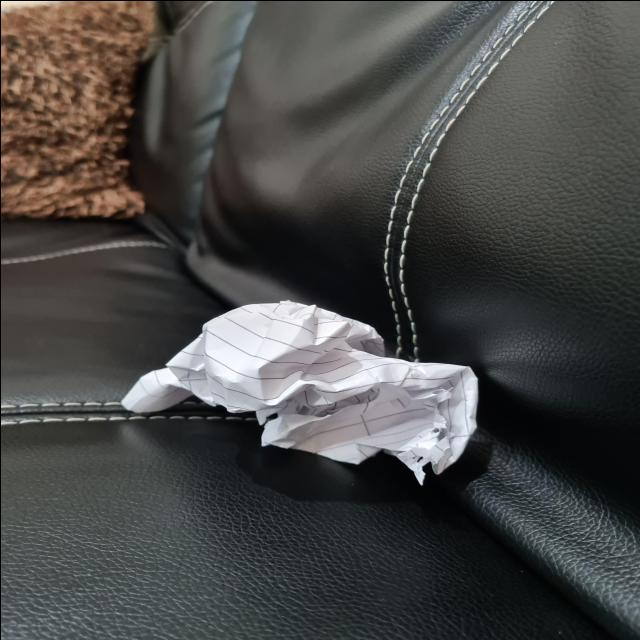kertas: (105, 297, 482, 469)
